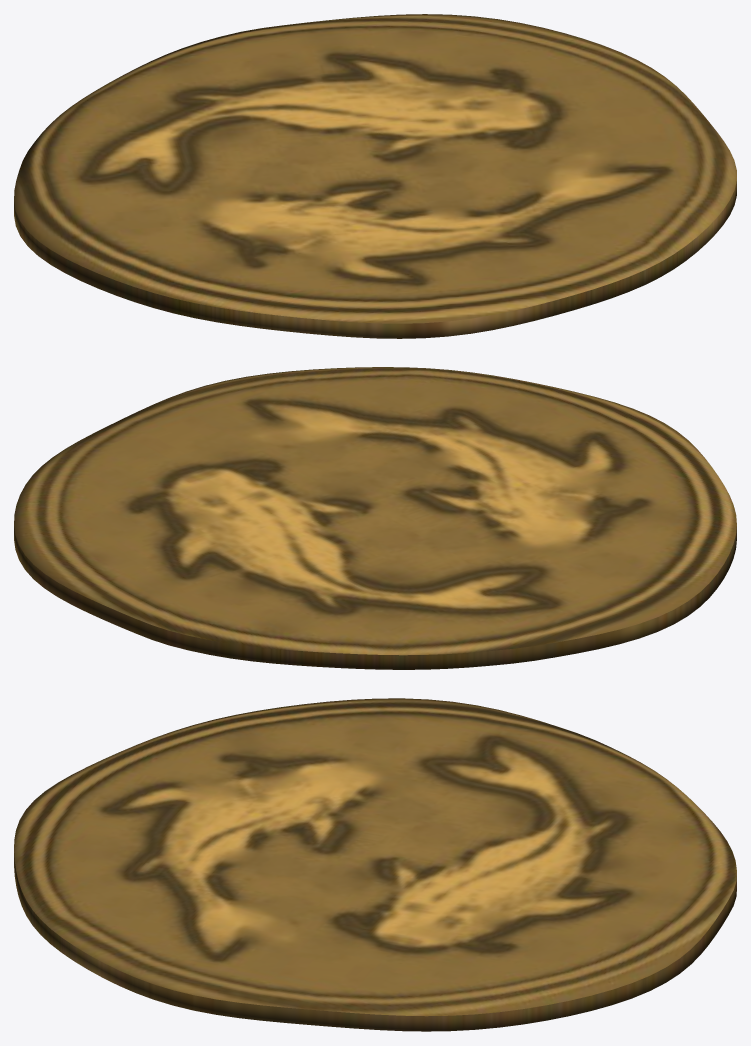
File: zodiac_12.glb
3 renders of one model, top to bottom at view 1: azimuth 30°, elevation 25°; view 2: azimuth 150°, elevation 25°; view 3: azimuth 270°, elevation 25°, orthographic. The views are drawn at different scales.
Parts seen in each view (by area): view 1: zodiac_12; view 2: zodiac_12; view 3: zodiac_12.
Part boxes in pixels (bbox=[...]): zodiac_12: bbox=[14, 14, 736, 338]; zodiac_12: bbox=[14, 367, 736, 669]; zodiac_12: bbox=[14, 698, 736, 1031].
Size of the model in its own units: 0.9715 by 0.0399 by 0.9341.
Materials: 1 (1 with a texture image).
